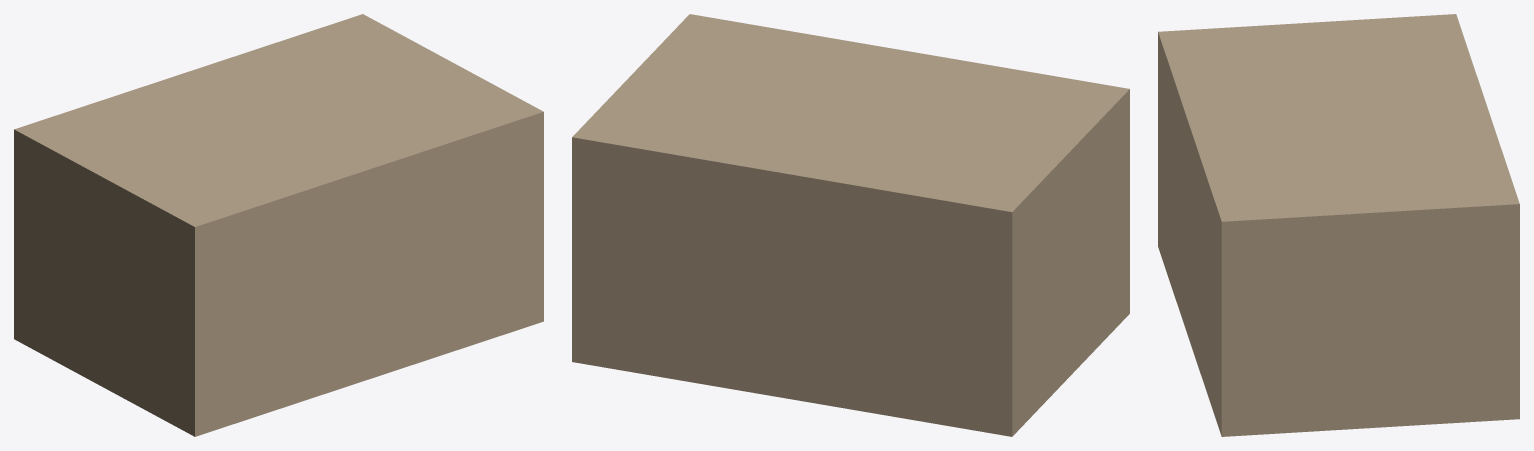
File: bld_158045204.dae
The picture shows the model from 3 angles, left to right: view 1: azimuth 30°, elevation 25°; view 2: azimuth 150°, elevation 25°; view 3: azimuth 270°, elevation 25°; orthographic projection. The views are drawn at different scales.
Parts seen in each view (by area): view 1: bld_158045204; view 2: bld_158045204; view 3: bld_158045204.
Boxes of the visible parts, x1,y1,x2,y2 form: bld_158045204: [14, 14, 543, 436]; bld_158045204: [572, 14, 1129, 436]; bld_158045204: [1158, 14, 1519, 436].
Size of the model in its own units: 16.57 by 12.19 by 8.
